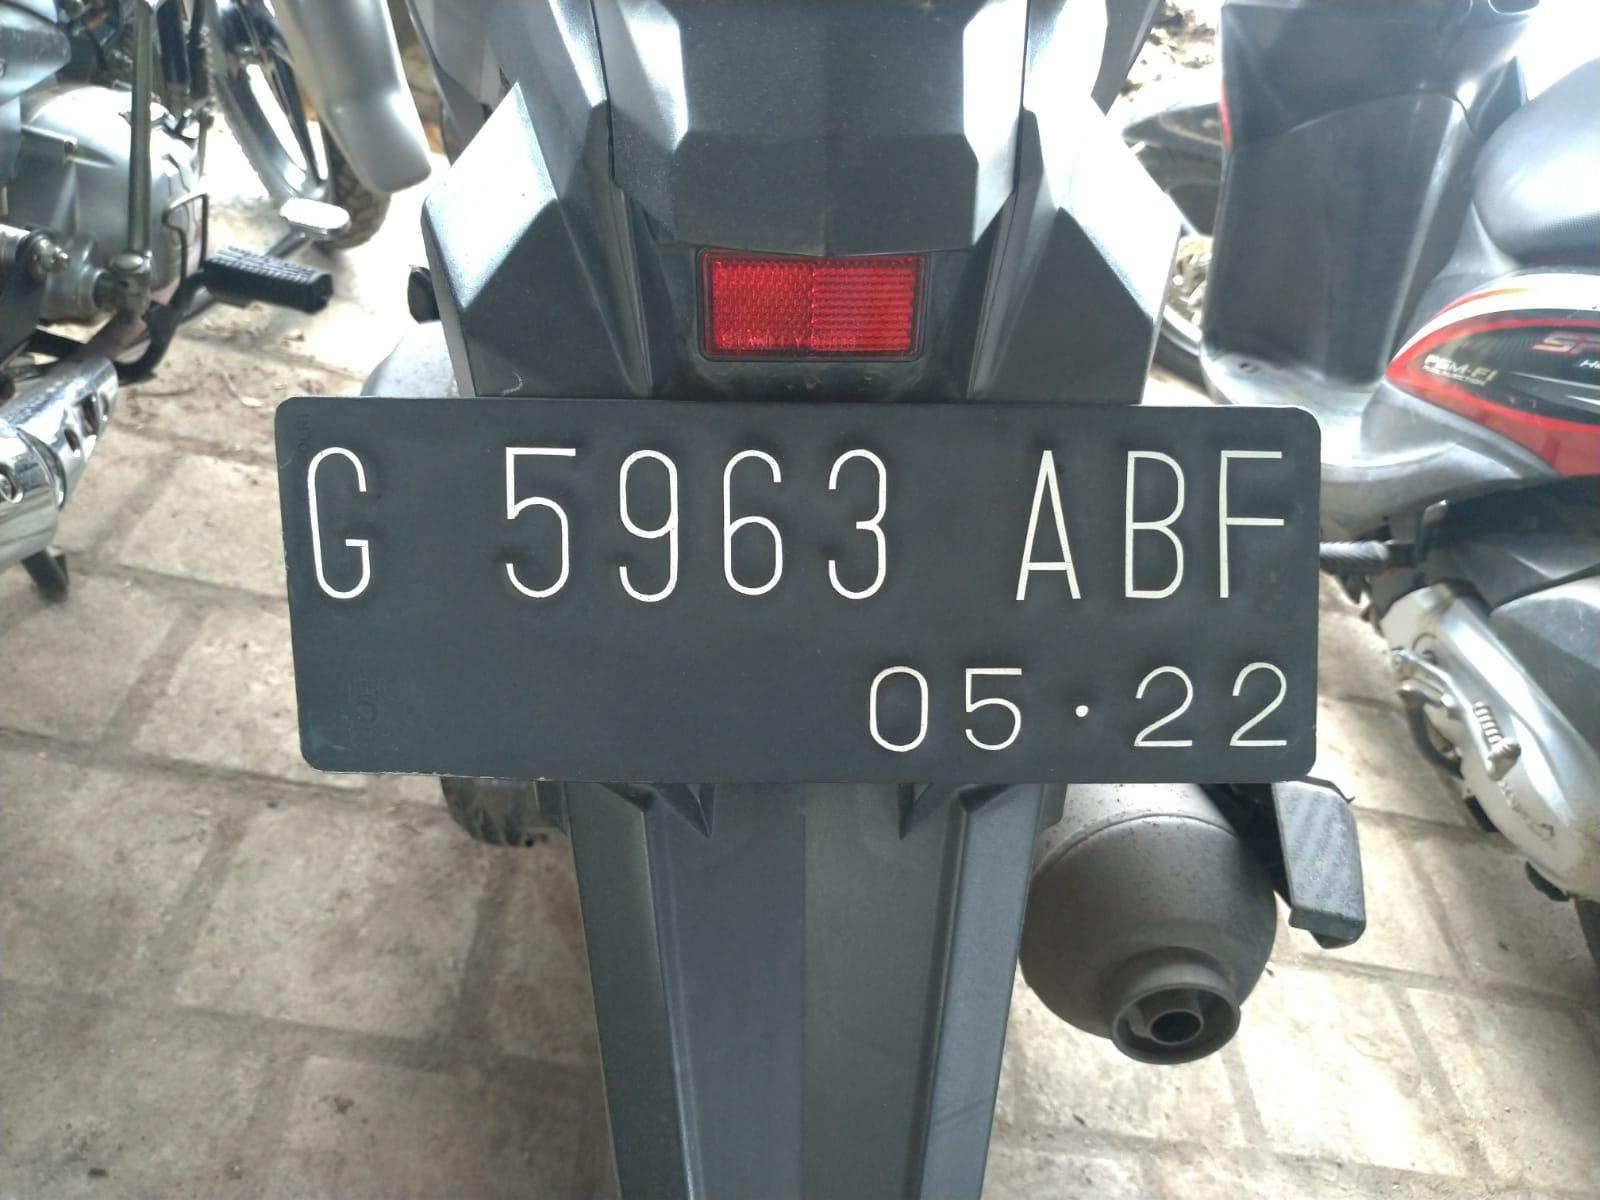plat: (275, 397, 1319, 784)
